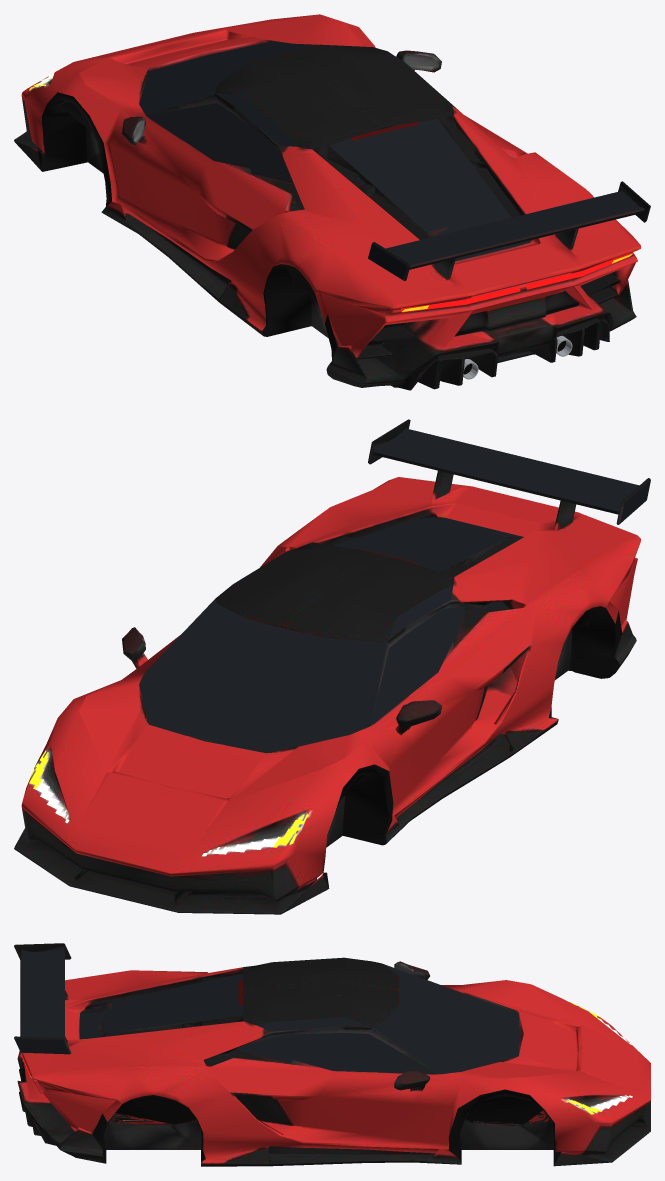
The model's file is supercar.glb.
3 renders of one model, top to bottom at view 1: azimuth 30°, elevation 25°; view 2: azimuth 150°, elevation 25°; view 3: azimuth 270°, elevation 25°, orthographic. The views are drawn at different scales.
Visible parts, largest first — view 1: body, tail_L, tail_R; view 2: body; view 3: body.
Boxes of the visible parts, x1,y1,x2,y2 form: body: (14, 14, 650, 390); tail_L: (401, 286, 520, 312); tail_R: (526, 252, 632, 289); body: (14, 419, 650, 914); body: (14, 943, 650, 1166).
Bounding box in the file's own units: 2 × 1.02 × 4.5.
17 materials, 1 textured.
